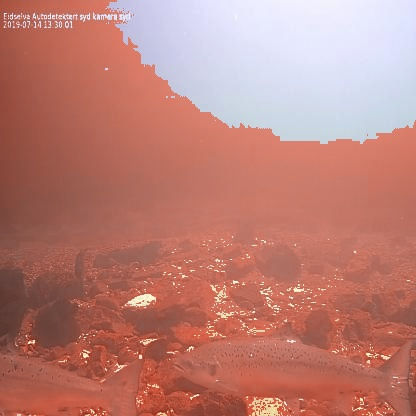salmon: (166, 318, 416, 416)
